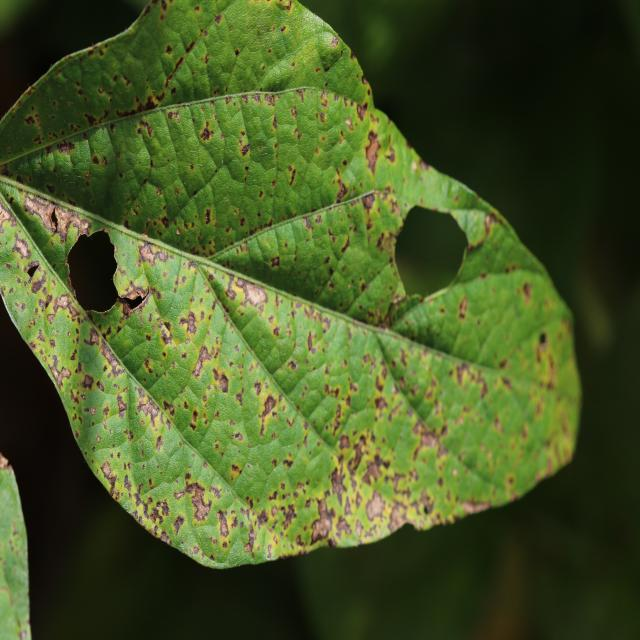Bacterial_Blight: (179, 476, 220, 529), (43, 201, 90, 243), (450, 359, 490, 400), (228, 274, 269, 308), (96, 339, 126, 382), (412, 424, 443, 462), (310, 497, 333, 543), (346, 434, 372, 474), (466, 216, 491, 253), (136, 393, 161, 425), (364, 129, 381, 173), (49, 355, 71, 389), (535, 333, 552, 376), (100, 461, 120, 496), (192, 344, 212, 378), (49, 293, 74, 320), (365, 491, 385, 522), (387, 503, 408, 531), (133, 92, 160, 113), (259, 393, 277, 424), (416, 488, 435, 517), (83, 108, 109, 128), (12, 235, 31, 259), (281, 503, 297, 529), (138, 242, 156, 265), (55, 139, 77, 157), (148, 503, 165, 526), (31, 273, 47, 295), (185, 311, 199, 335), (361, 192, 376, 214), (158, 323, 172, 346), (171, 55, 185, 76), (138, 119, 153, 137), (374, 394, 388, 413), (217, 372, 229, 393), (336, 180, 348, 201), (173, 514, 185, 534), (116, 395, 127, 416), (458, 296, 468, 319), (356, 102, 368, 121), (81, 373, 94, 390), (230, 463, 243, 480), (89, 328, 100, 346), (319, 91, 330, 109), (522, 281, 532, 300), (288, 167, 297, 187), (341, 235, 350, 253), (201, 127, 212, 141), (190, 409, 199, 426), (155, 435, 164, 451), (24, 114, 37, 125), (265, 93, 275, 107), (240, 143, 250, 156), (538, 332, 547, 346), (270, 256, 280, 268), (160, 216, 169, 229), (37, 330, 46, 343), (330, 36, 339, 49), (345, 117, 353, 130), (91, 154, 100, 165), (205, 208, 211, 224), (214, 13, 222, 25), (46, 184, 55, 194), (165, 44, 173, 55), (90, 406, 97, 416), (239, 217, 246, 227), (174, 187, 180, 195), (234, 49, 240, 57), (84, 171, 89, 179)
Soybean: (0, 0, 580, 568)
